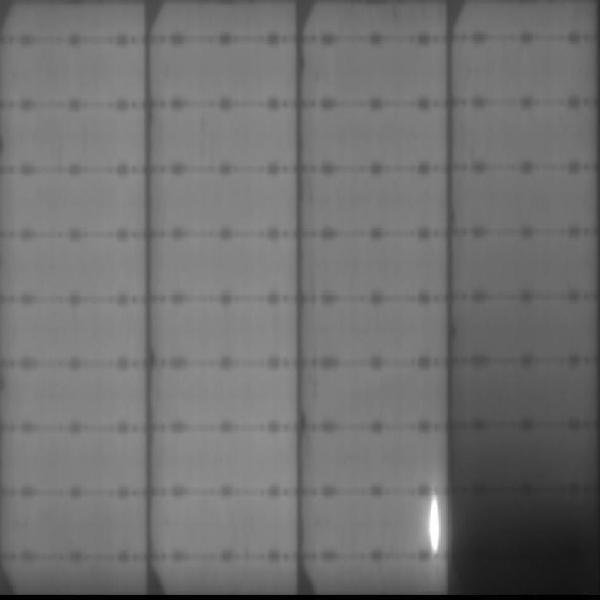hot_spot: (426, 491, 445, 558)
